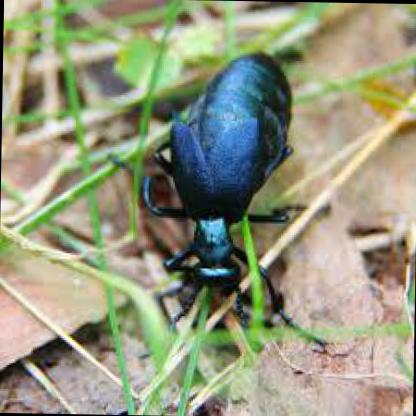blister beetle: (142, 51, 294, 289)
